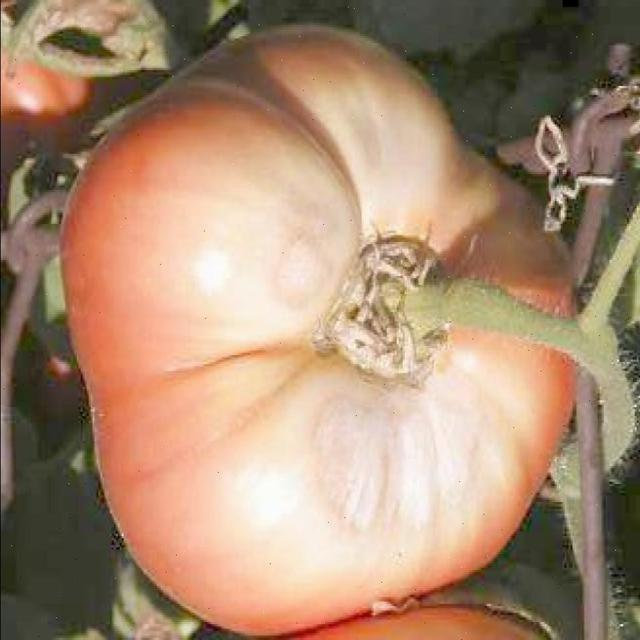Sunscald Fruit: (57, 81, 274, 315)
